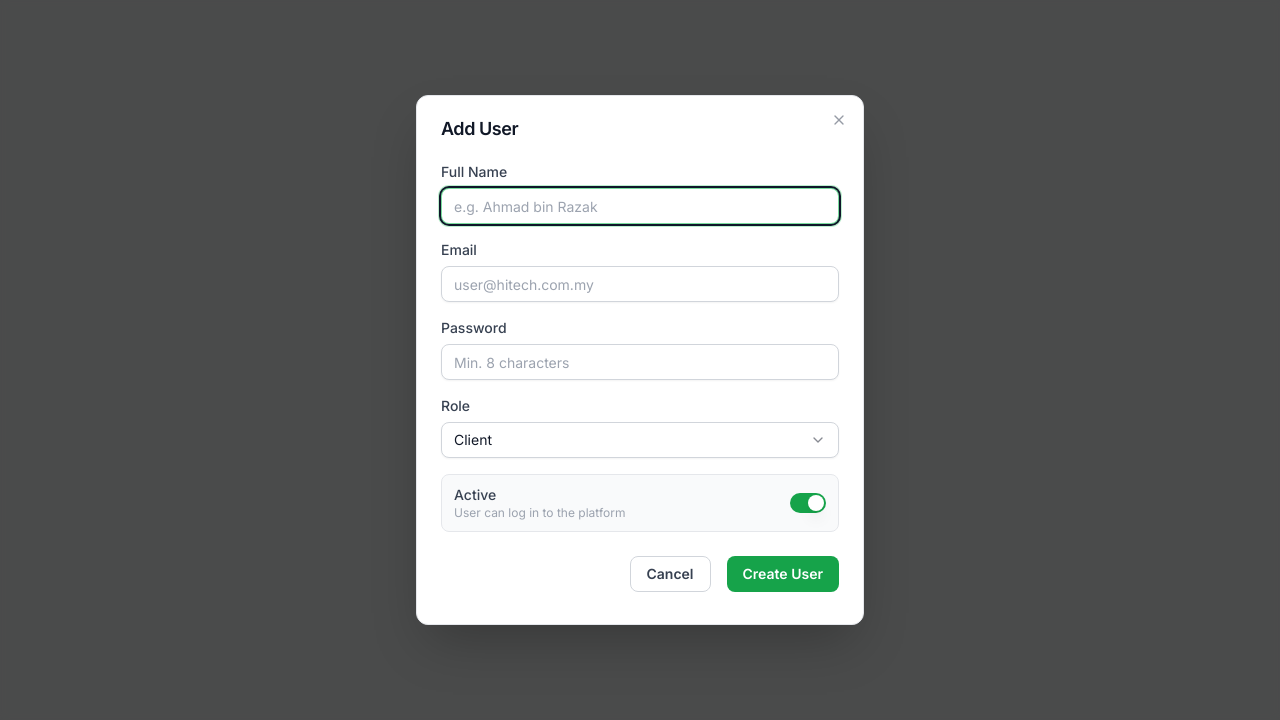
Test: Create mode — rendering › renders all 7 valid roles in the role select
Open the select — Radix renders options in a portal after opening
Click the dropdown.
click(473, 440)  # box [441,422,839,458]
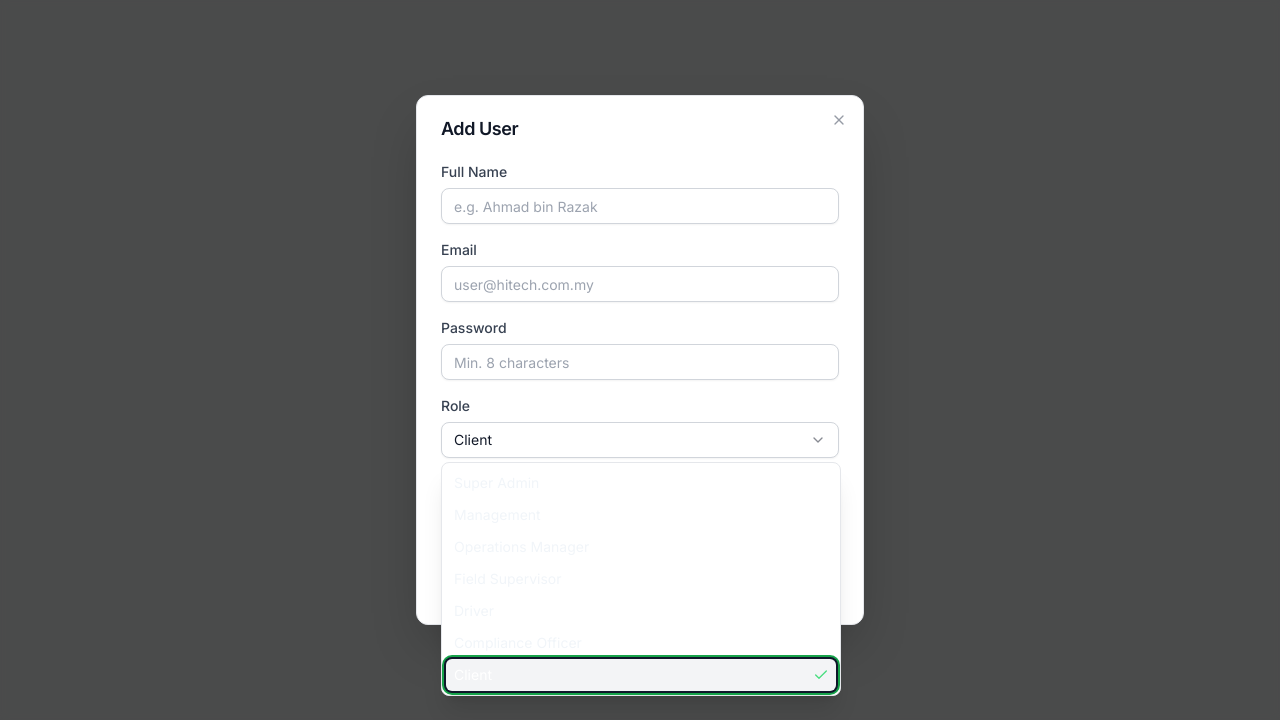
Expected: the text "Client" below "Role" is shown, [454,431,492,448]
Now the list is shown, box [441,462,841,696]
